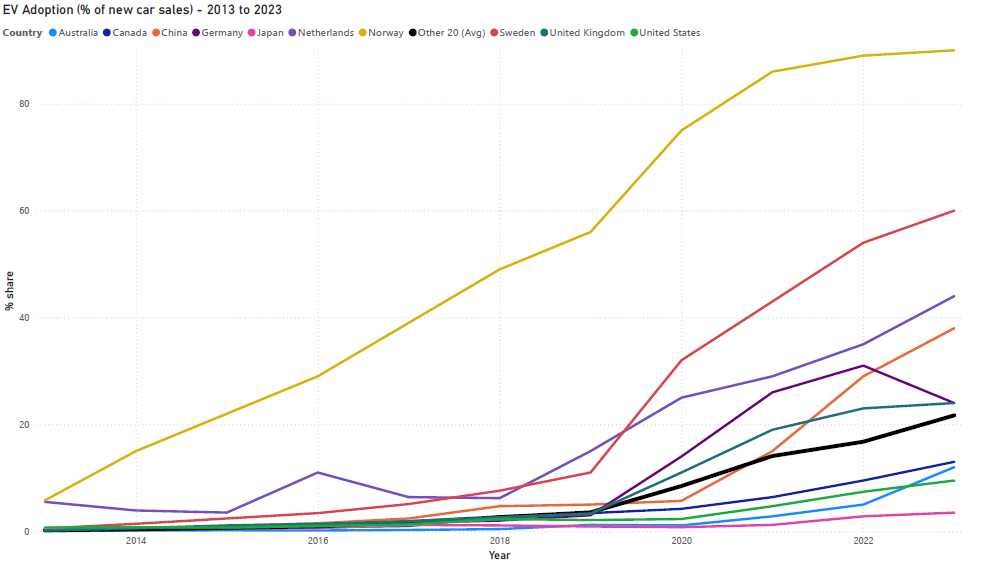

The dashboard page shown, as its layout file describes it:
{"tool":"powerbi","page":{"name":"EV Adoption","canvas":[1280,720],"ordinal":0},"visuals":[{"type":"lineChart","title":"EV Adoption (% of new car sales) - 2013 to 2023","fields":{"Category":["electric-car-sales-share.Year"],"Y":["Avg(electric-car-sales-share.Share of new cars that are electric)"],"Series":["electric-car-sales-share.Normalized_Name"]},"box":[0,0,1238.7,720],"z":0}]}

Visuals, with their boxes in screenshot pixels (x1, y1, x2, y2), scaled from the page's 1280x720 canvas onto the 988x563 screenshot:
"EV Adoption (% of new car sales) - 2013 to 2023" lineChart: box(0, 0, 956, 562)
